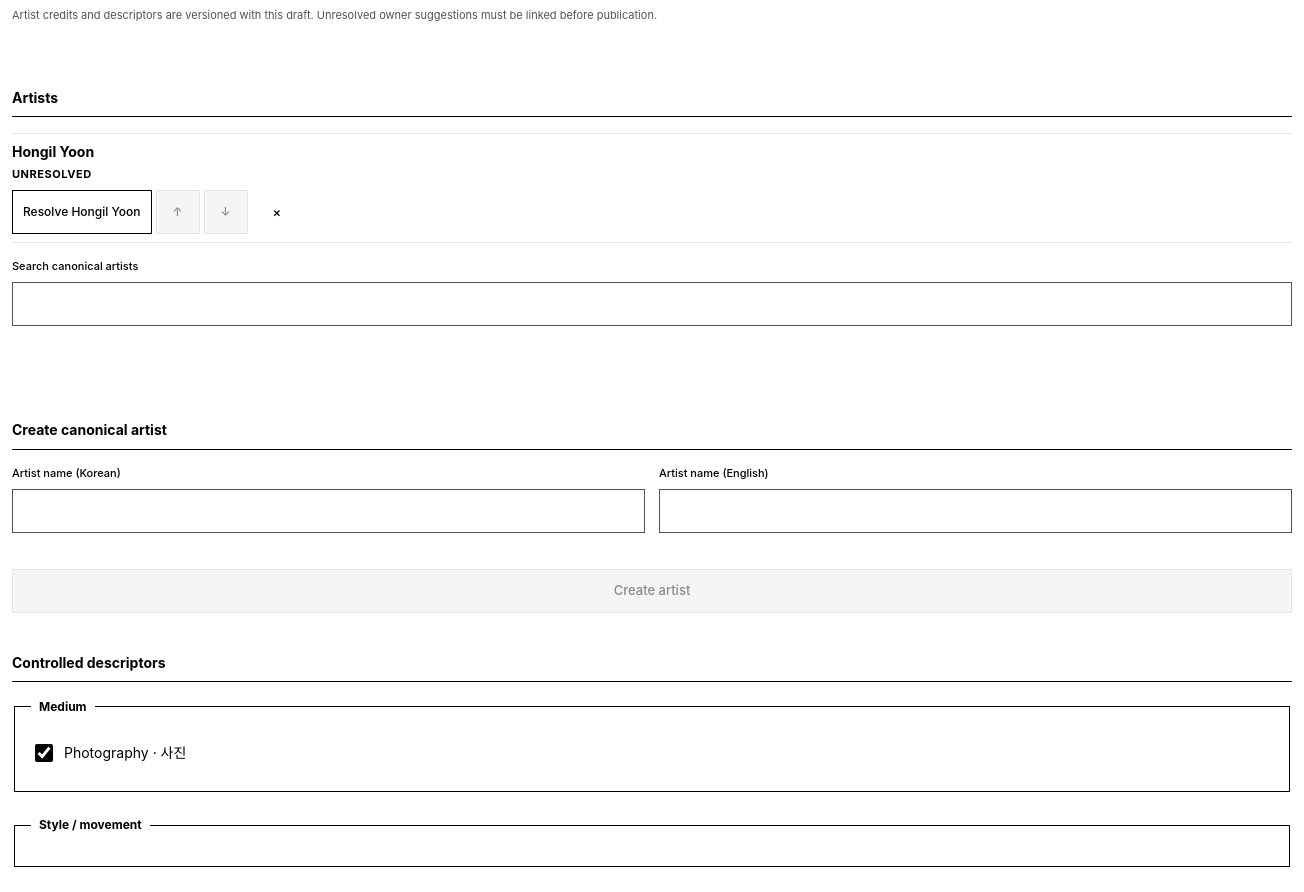
Scenario: ExhibitionArtMetadataEditor › does not invent a missing translation or enable one-click creation without both names
The image size is (1304, 892).
Click the button "Resolve Hongil Yoon" at (82, 212), box [12, 190, 152, 234]
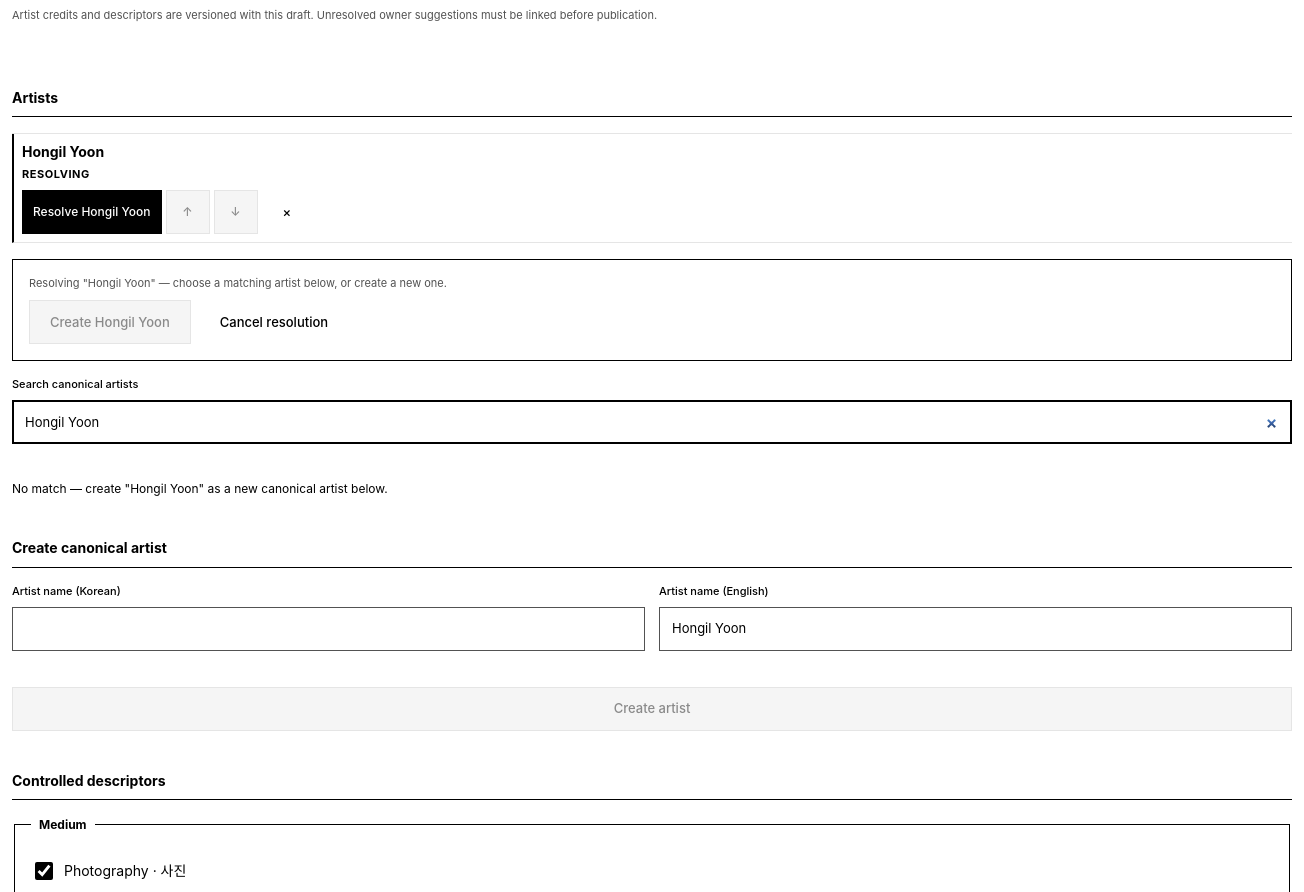
Expected: the field labelled "Artist name (Korean)" is empty, [12, 607, 645, 651]
Result: the button "Create Hongil Yoon" is disabled at [29, 300, 191, 344]
